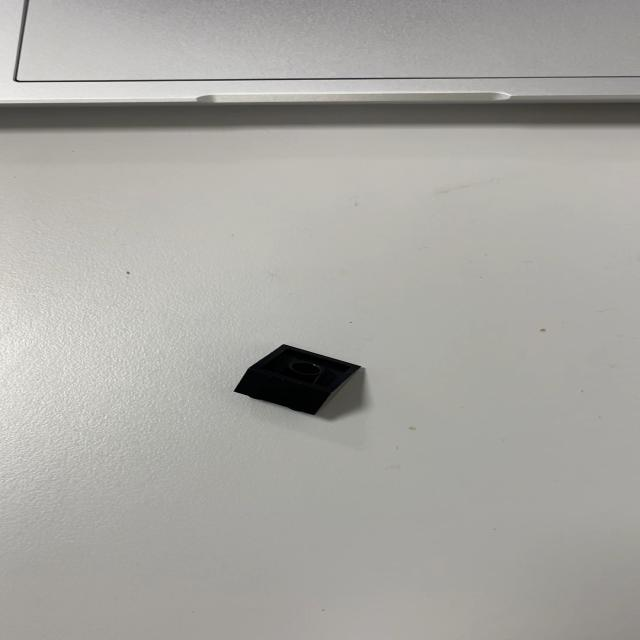P2x2x1: (232, 343, 362, 416)
